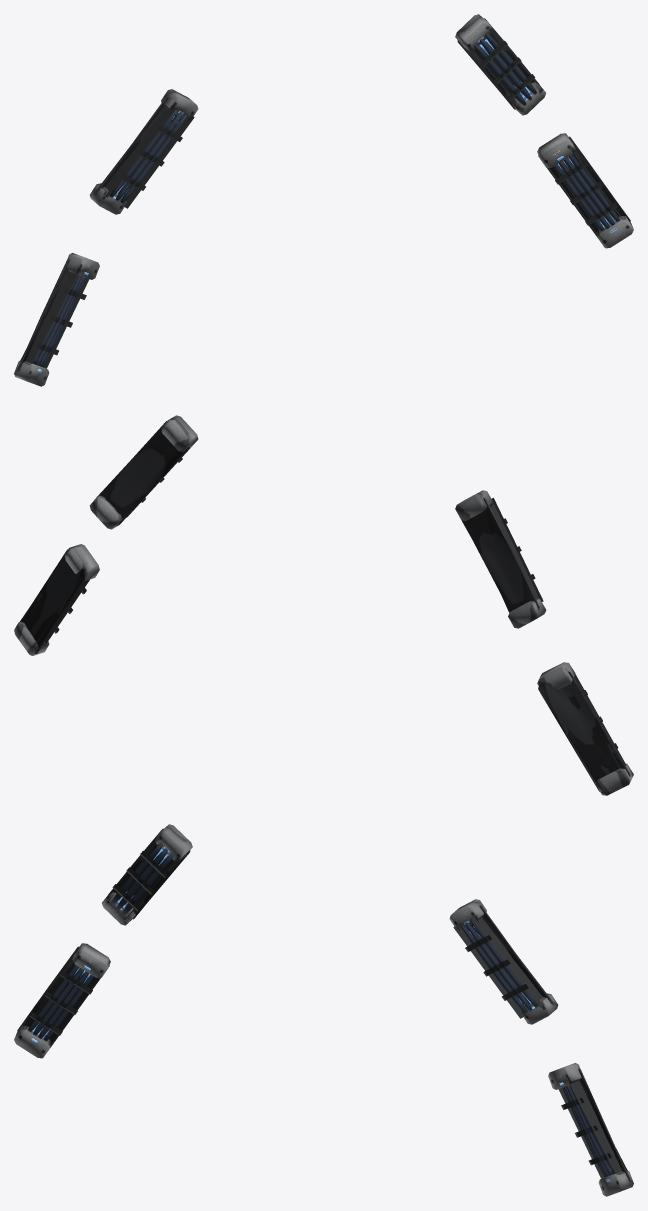
Rendered from em2_myofibrils.gltf.
3 renders of one model, top to bottom at view 1: azimuth 30°, elevation 25°; view 2: azimuth 150°, elevation 25°; view 3: azimuth 330°, elevation 25°, orthographic.
Visible parts, largest first — view 1: B_upper_arm_R__em2_myofibrils, B_forearm_L__em2_myofibrils, B_forearm_R__em2_myofibrils, B_upper_arm_L__em2_myofibrils; view 2: B_forearm_R__em2_myofibrils, B_upper_arm_R__em2_myofibrils, B_upper_arm_L__em2_myofibrils, B_forearm_L__em2_myofibrils; view 3: B_upper_arm_L__em2_myofibrils, B_forearm_R__em2_myofibrils, B_forearm_L__em2_myofibrils, B_upper_arm_R__em2_myofibrils.
Part boxes in pixels (left/top/right/bottom): B_upper_arm_R__em2_myofibrils: left=89, top=89, right=198, bottom=214; B_forearm_L__em2_myofibrils: left=537, top=133, right=633, bottom=248; B_forearm_R__em2_myofibrils: left=14, top=253, right=99, bottom=386; B_upper_arm_L__em2_myofibrils: left=455, top=14, right=545, bottom=115; B_forearm_R__em2_myofibrils: left=537, top=662, right=633, bottom=795; B_upper_arm_R__em2_myofibrils: left=455, top=490, right=546, bottom=628; B_upper_arm_L__em2_myofibrils: left=89, top=415, right=198, bottom=529; B_forearm_L__em2_myofibrils: left=14, top=544, right=99, bottom=655; B_upper_arm_L__em2_myofibrils: left=449, top=899, right=558, bottom=1024; B_forearm_R__em2_myofibrils: left=14, top=943, right=110, bottom=1058; B_forearm_L__em2_myofibrils: left=548, top=1063, right=633, bottom=1196; B_upper_arm_R__em2_myofibrils: left=102, top=824, right=192, bottom=925.
Bounding box in the file's own units: 0.9906 × 0.4043 × 0.0626.
Materials: 1 (1 with a texture image).
